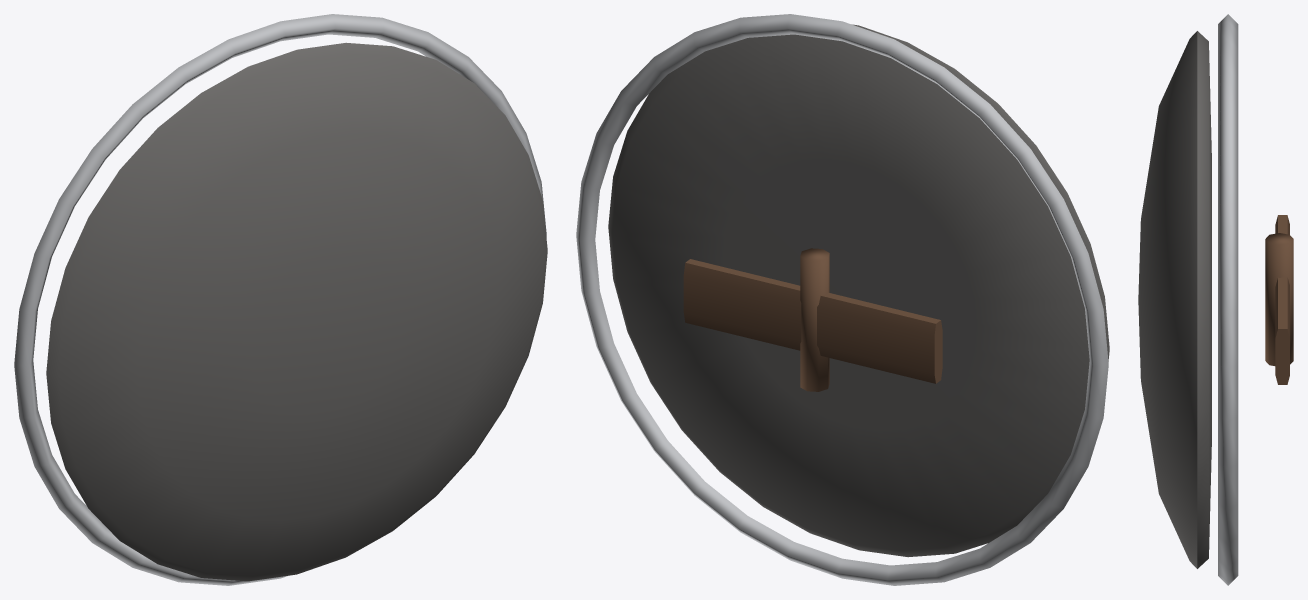
File: throwing-shield.glb
3 renders of one model, left to right at view 1: azimuth 30°, elevation 25°; view 2: azimuth 150°, elevation 25°; view 3: azimuth 270°, elevation 25°, orthographic. The views are drawn at different scales.
Parts seen in each view (by area): view 1: throwing-shield; view 2: throwing-shield; view 3: throwing-shield.
Part boxes in pixels (x1,y1,x2,y2): throwing-shield: (14,14,547,585); throwing-shield: (576,14,1109,585); throwing-shield: (1138,14,1293,585).
Size of the model in its own units: 0.892 by 0.892 by 0.242.
